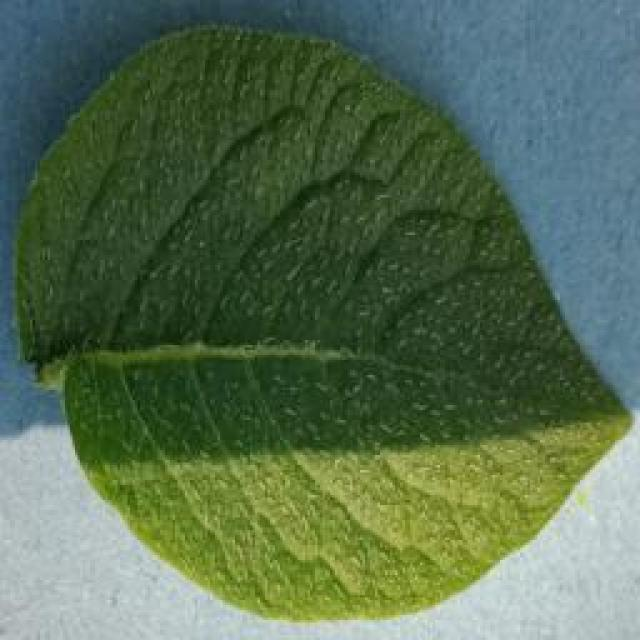Potato_Healthy: (15, 24, 624, 622)
